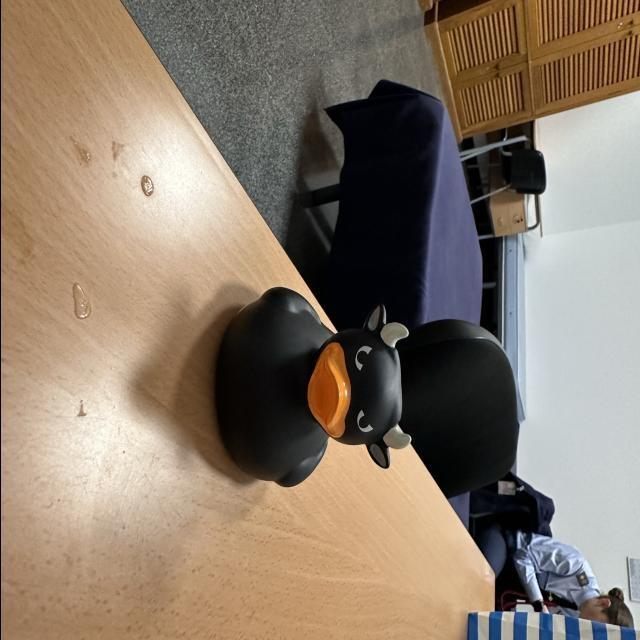rubber-duck: (215, 286, 409, 485)
